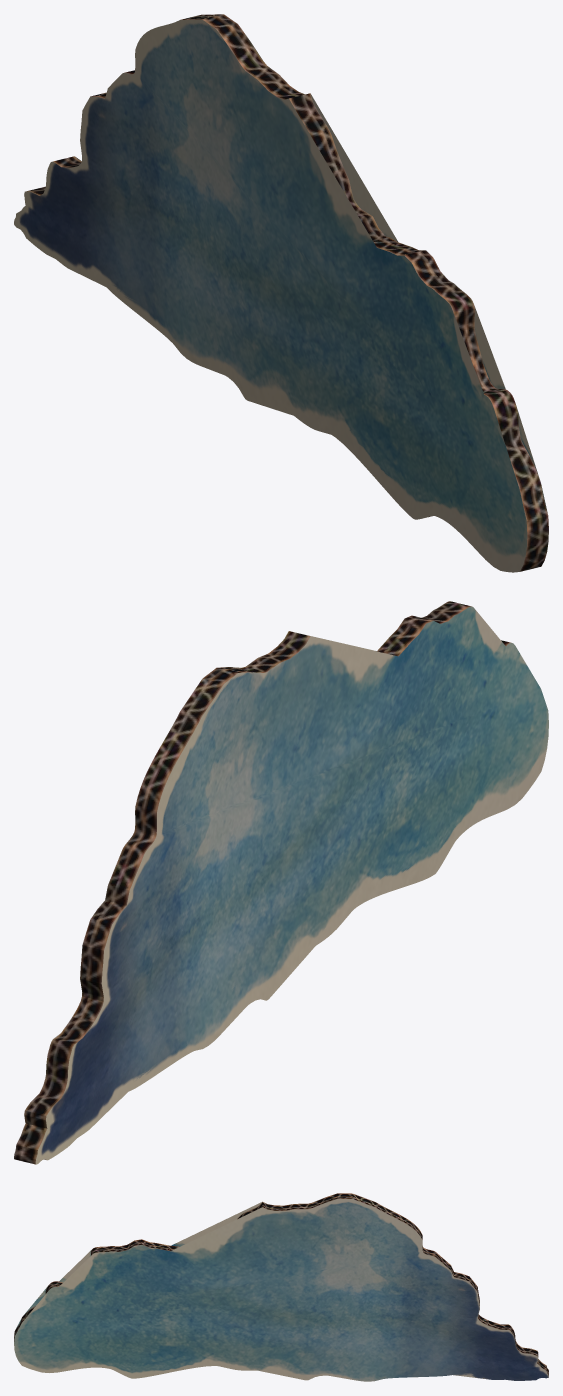
The model's file is Cloud-05.fbx.
3 views of the same model, one above another, from view 1: azimuth 30°, elevation 25°; view 2: azimuth 150°, elevation 25°; view 3: azimuth 270°, elevation 25° (orthographic). The views are drawn at different scales.
Visible parts, largest first — view 1: Cloud-01R, Cloud-01R-Bordo; view 2: Cloud-01R, Cloud-01R-Bordo; view 3: Cloud-01R, Cloud-01R-Bordo.
Part boxes in pixels (left/top/right/bottom): Cloud-01R: left=14, top=19, right=547, bottom=572; Cloud-01R-Bordo: left=26, top=14, right=548, bottom=571; Cloud-01R: left=35, top=606, right=548, bottom=1164; Cloud-01R-Bordo: left=14, top=601, right=511, bottom=1164; Cloud-01R: left=14, top=1198, right=548, bottom=1381; Cloud-01R-Bordo: left=14, top=1193, right=548, bottom=1375.
Bounding box in the file's own units: 12.53 × 194 × 513.
